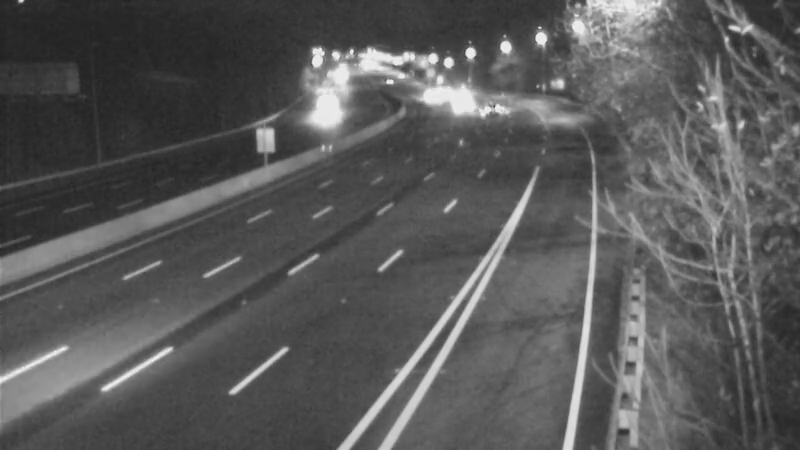vehicle: (405, 70, 455, 120), (434, 86, 484, 136), (465, 85, 515, 135), (296, 90, 346, 140)
